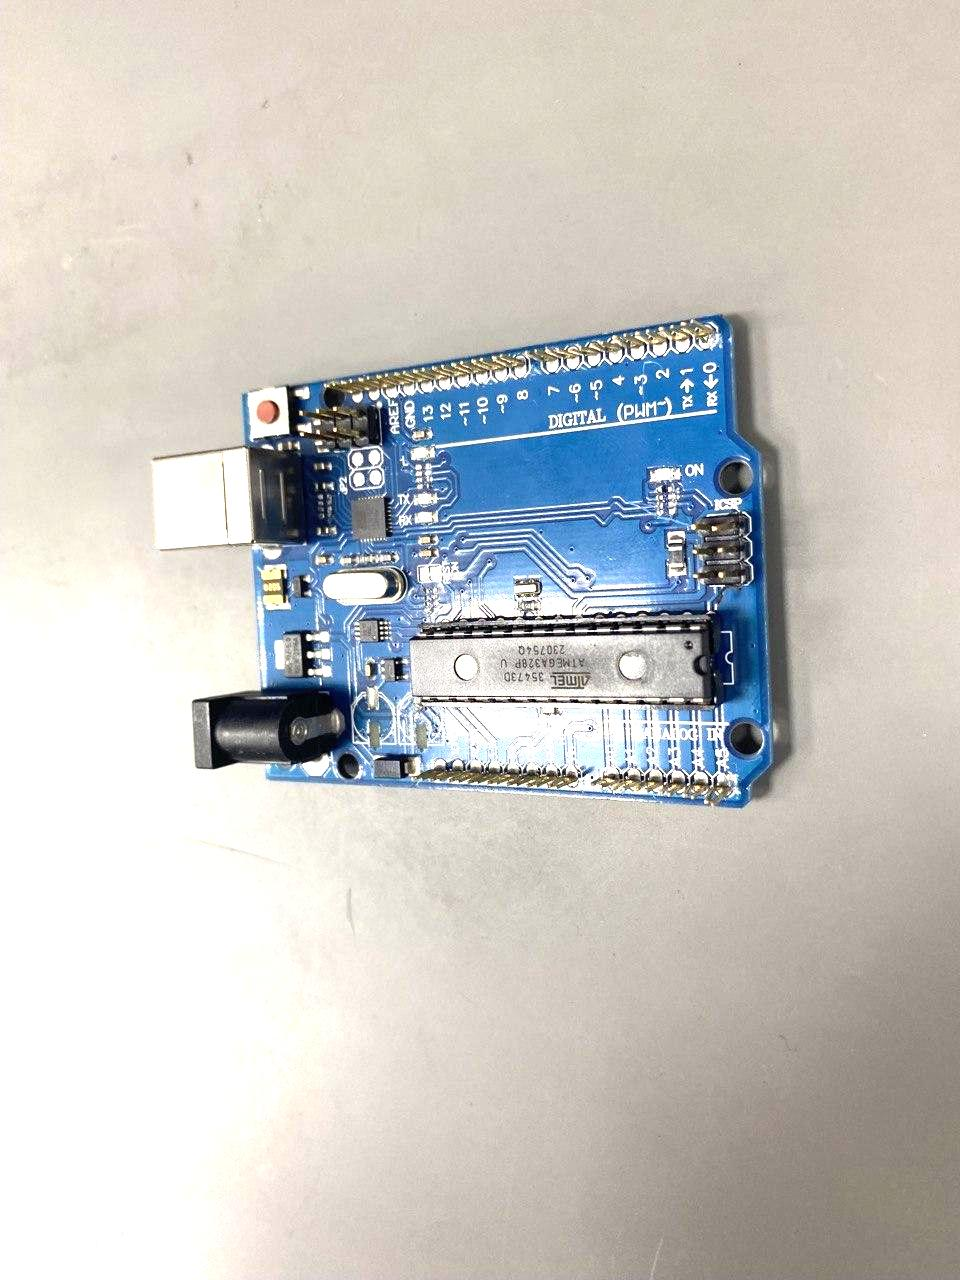ATmega328 chip: (409, 614, 722, 711)
Arduino board: (151, 313, 772, 810)
USB: (150, 444, 310, 554)
